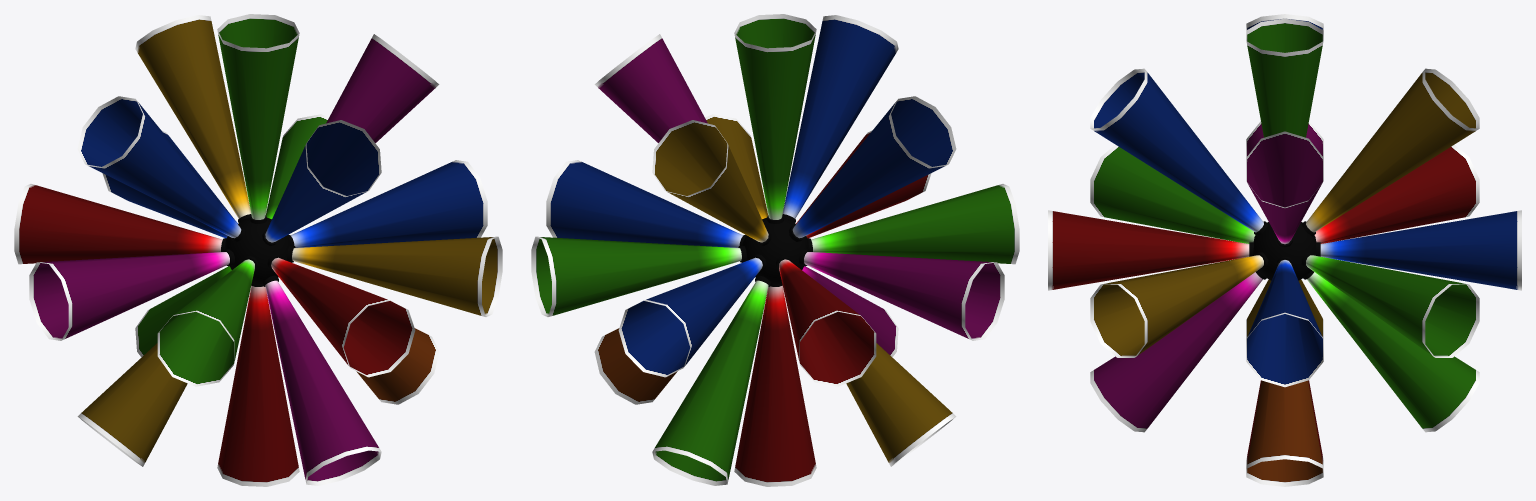
The model's file is globe.fbx.
3 views of the same model, side by side, from view 1: azimuth 30°, elevation 25°; view 2: azimuth 150°, elevation 25°; view 3: azimuth 270°, elevation 25° (orthographic). The views are drawn at different scales.
Visible parts, largest first — view 1: pSphere2; view 2: pSphere2; view 3: pSphere2.
Boxes of the visible parts, x1,y1,x2,y2 form: pSphere2: [14, 14, 502, 486]; pSphere2: [531, 14, 1019, 486]; pSphere2: [1048, 14, 1521, 486].
Bounding box in the file's own units: 56.53 × 56.53 × 56.53.
